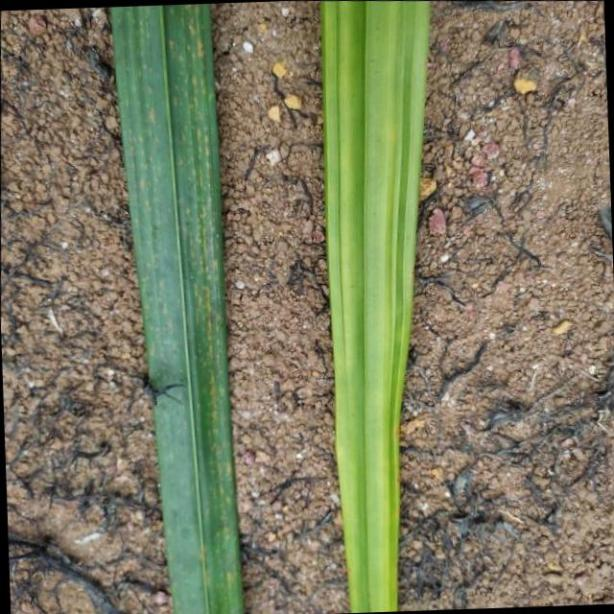nitrogen: (323, 0, 433, 614)
